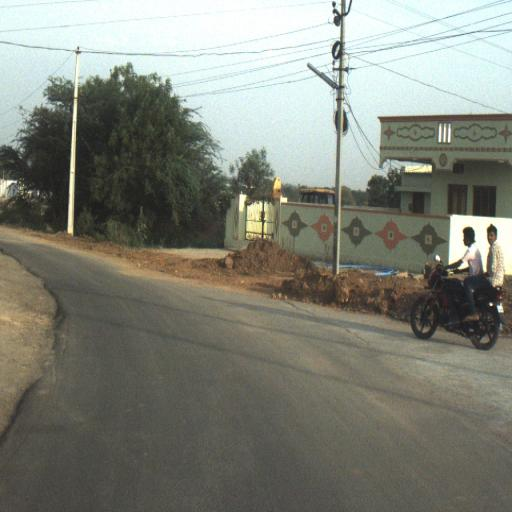street_light_0: (307, 61, 345, 109)
